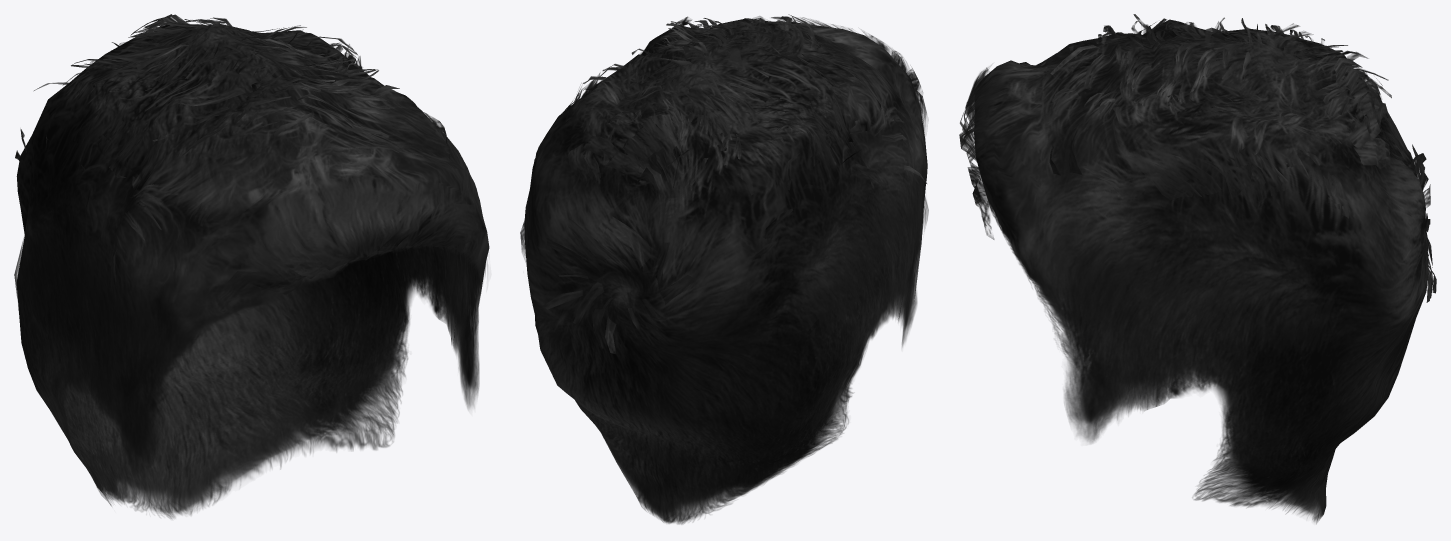
File: hair-female-short01.glb
3 renders of one model, left to right at view 1: azimuth 30°, elevation 25°; view 2: azimuth 150°, elevation 25°; view 3: azimuth 270°, elevation 25°, orthographic. The views are drawn at different scales.
Visible parts, largest first — view 1: short01; view 2: short01; view 3: short01.
Boxes of the visible parts, box(x1,y1,x2,y2) form: short01: box(14, 14, 489, 518); short01: box(520, 14, 928, 524); short01: box(959, 14, 1436, 523).
Bounding box in the file's own units: 0.3157 × 0.4315 × 0.3827.
Materials: 1 (1 with a texture image).
